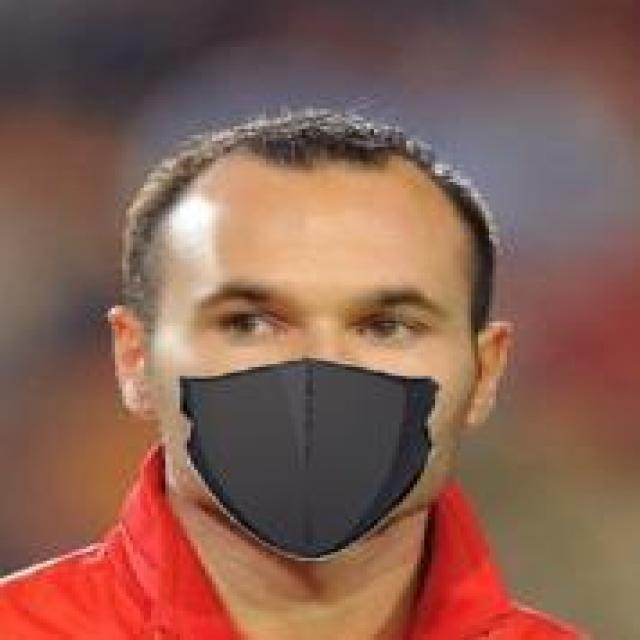mask: (140, 77, 561, 576)
